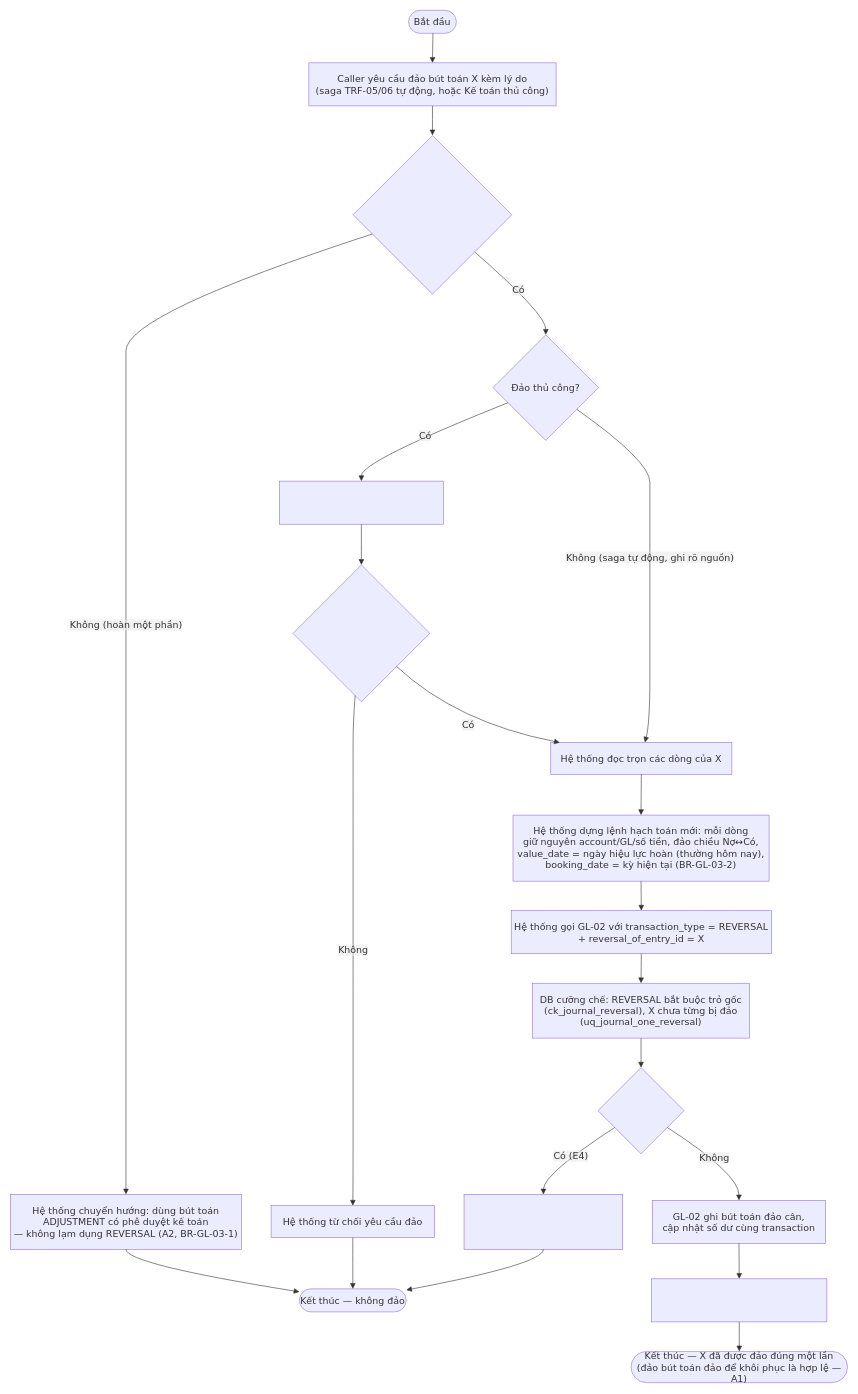
Image size: 858x1394. Some labels were removed from this diagram. The centre of each missing label's shape, as x and y in pixels:
"Cần hoàn nguyên vẹn 100% số tiền bản gốc?" goes at (432,214).
"DB từ chối (unique violation) — chống hoàn tiền hai lần, rollback toàn bộ" goes at (543,1221).
"Hệ thống ghi audit (lý do, người/tiến trình yêu cầu)" goes at (739,1300).
"Hệ thống kiểm vai trò kế toán + lý do bắt buộc (BR-GL-03-3)" goes at (361,502).
"X đã bị đảo trước đó?" goes at (640,1110).
"Đủ quyền và lý do?" goes at (361,633).
